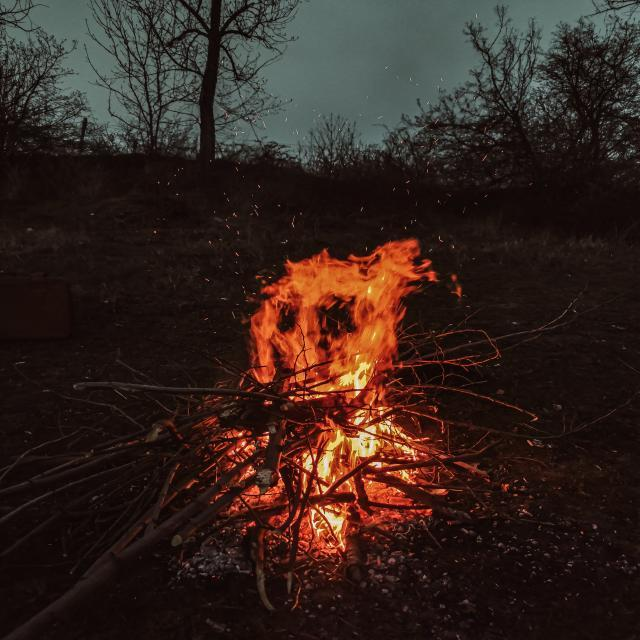Fire: (184, 235, 462, 563)
